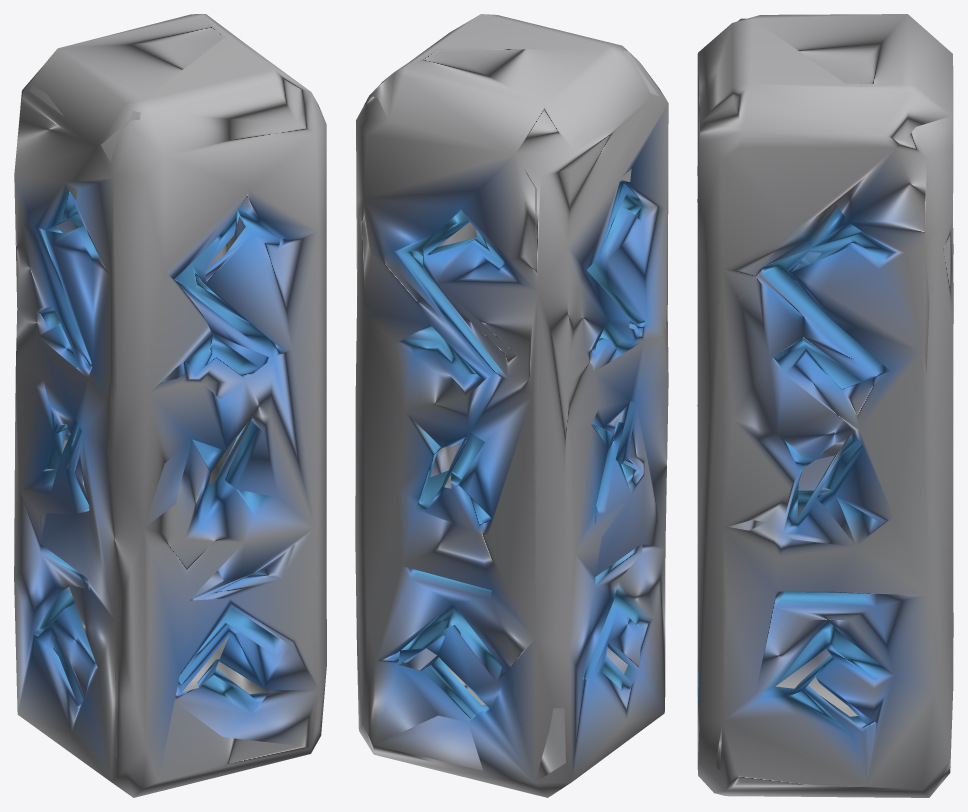
The model's file is gen3d-rune-stone-lod1.glb.
The picture shows the model from 3 angles, left to right: view 1: azimuth 30°, elevation 25°; view 2: azimuth 150°, elevation 25°; view 3: azimuth 270°, elevation 25°; orthographic projection. The views are drawn at different scales.
Parts seen in each view (by area): view 1: part_0; view 2: part_0; view 3: part_0.
Boxes of the visible parts, x1,y1,x2,y2 form: part_0: [14, 14, 326, 797]; part_0: [355, 14, 668, 797]; part_0: [697, 14, 953, 797].
Size of the model in its own units: 0.3291 by 1 by 0.3296.
